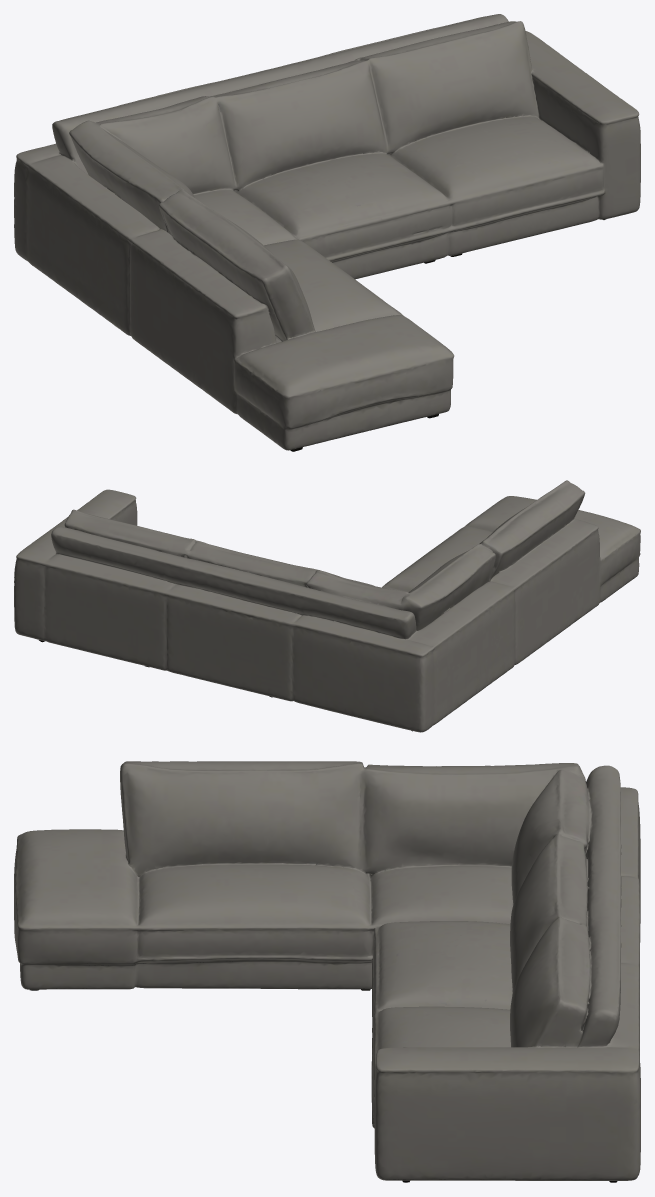
File: sectional.glb
3 renders of one model, top to bottom at view 1: azimuth 30°, elevation 25°; view 2: azimuth 150°, elevation 25°; view 3: azimuth 270°, elevation 25°, orthographic. The views are drawn at different scales.
Visible parts, largest first — view 1: world; view 2: world; view 3: world.
Boxes of the visible parts, <box> form: world: <box>14,14,640,451</box>; world: <box>14,480,640,732</box>; world: <box>14,761,640,1182</box>.
Size of the model in its own units: 1 by 0.2721 by 0.9272.
1 material, 1 textured.
